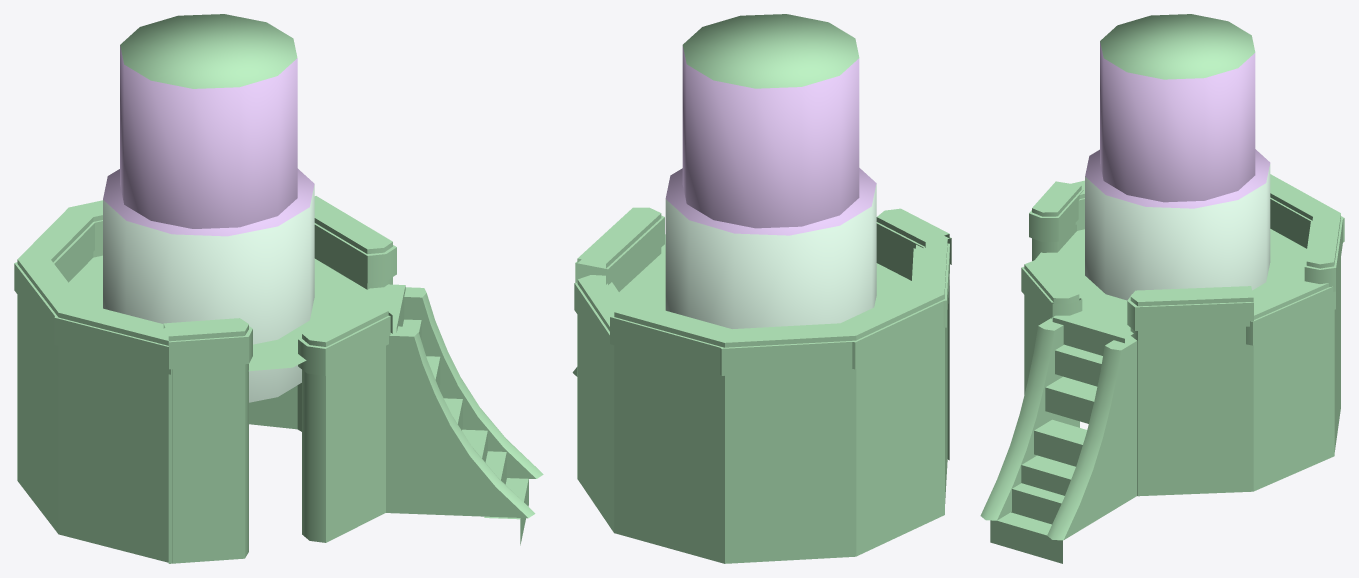
3 renders of one model, left to right at view 1: azimuth 30°, elevation 25°; view 2: azimuth 150°, elevation 25°; view 3: azimuth 270°, elevation 25°, orthographic. The views are drawn at different scales.
Visible parts, largest first — view 1: Object64; view 2: Object64; view 3: Object64.
Boxes of the visible parts, x1,y1,x2,y2 form: Object64: [14, 14, 543, 563]; Object64: [572, 14, 951, 563]; Object64: [980, 14, 1344, 563].
Size of the model in its own units: 692 by 718 by 580.
